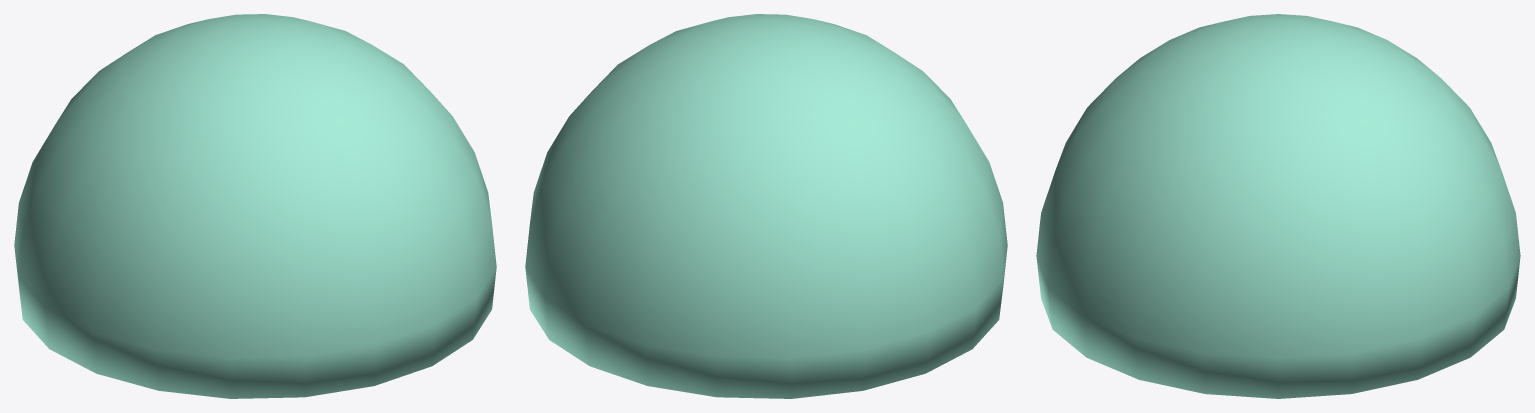
The model's file is landingpad_forcefield.fbx.
3 views of the same model, side by side, from view 1: azimuth 30°, elevation 25°; view 2: azimuth 150°, elevation 25°; view 3: azimuth 270°, elevation 25° (orthographic).
Parts seen in each view (by area): view 1: Sphere; view 2: Sphere; view 3: Sphere.
Part boxes in pixels (x1,y1,x2,y2): Sphere: [14, 14, 496, 398]; Sphere: [525, 14, 1007, 398]; Sphere: [1036, 14, 1520, 398].
Size of the model in its own units: 74.84 by 74.84 by 44.72.
